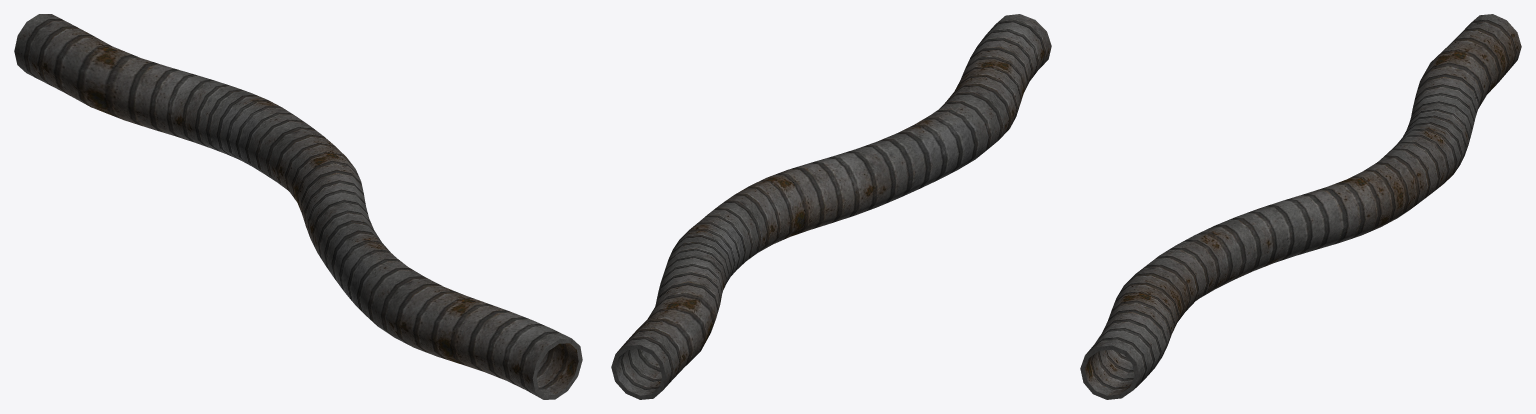
The model's file is pipe_e_2.obj.
The picture shows the model from 3 angles, left to right: view 1: azimuth 30°, elevation 25°; view 2: azimuth 150°, elevation 25°; view 3: azimuth 330°, elevation 25°; orthographic projection. The views are drawn at different scales.
Visible parts, largest first — view 1: pipe_e_2; view 2: pipe_e_2; view 3: pipe_e_2.
Boxes of the visible parts, x1,y1,x2,y2 form: pipe_e_2: [14, 14, 582, 399]; pipe_e_2: [611, 14, 1051, 399]; pipe_e_2: [1080, 14, 1521, 399].
Bounding box in the file's own units: 0.5889 × 0.2502 × 3.61.
